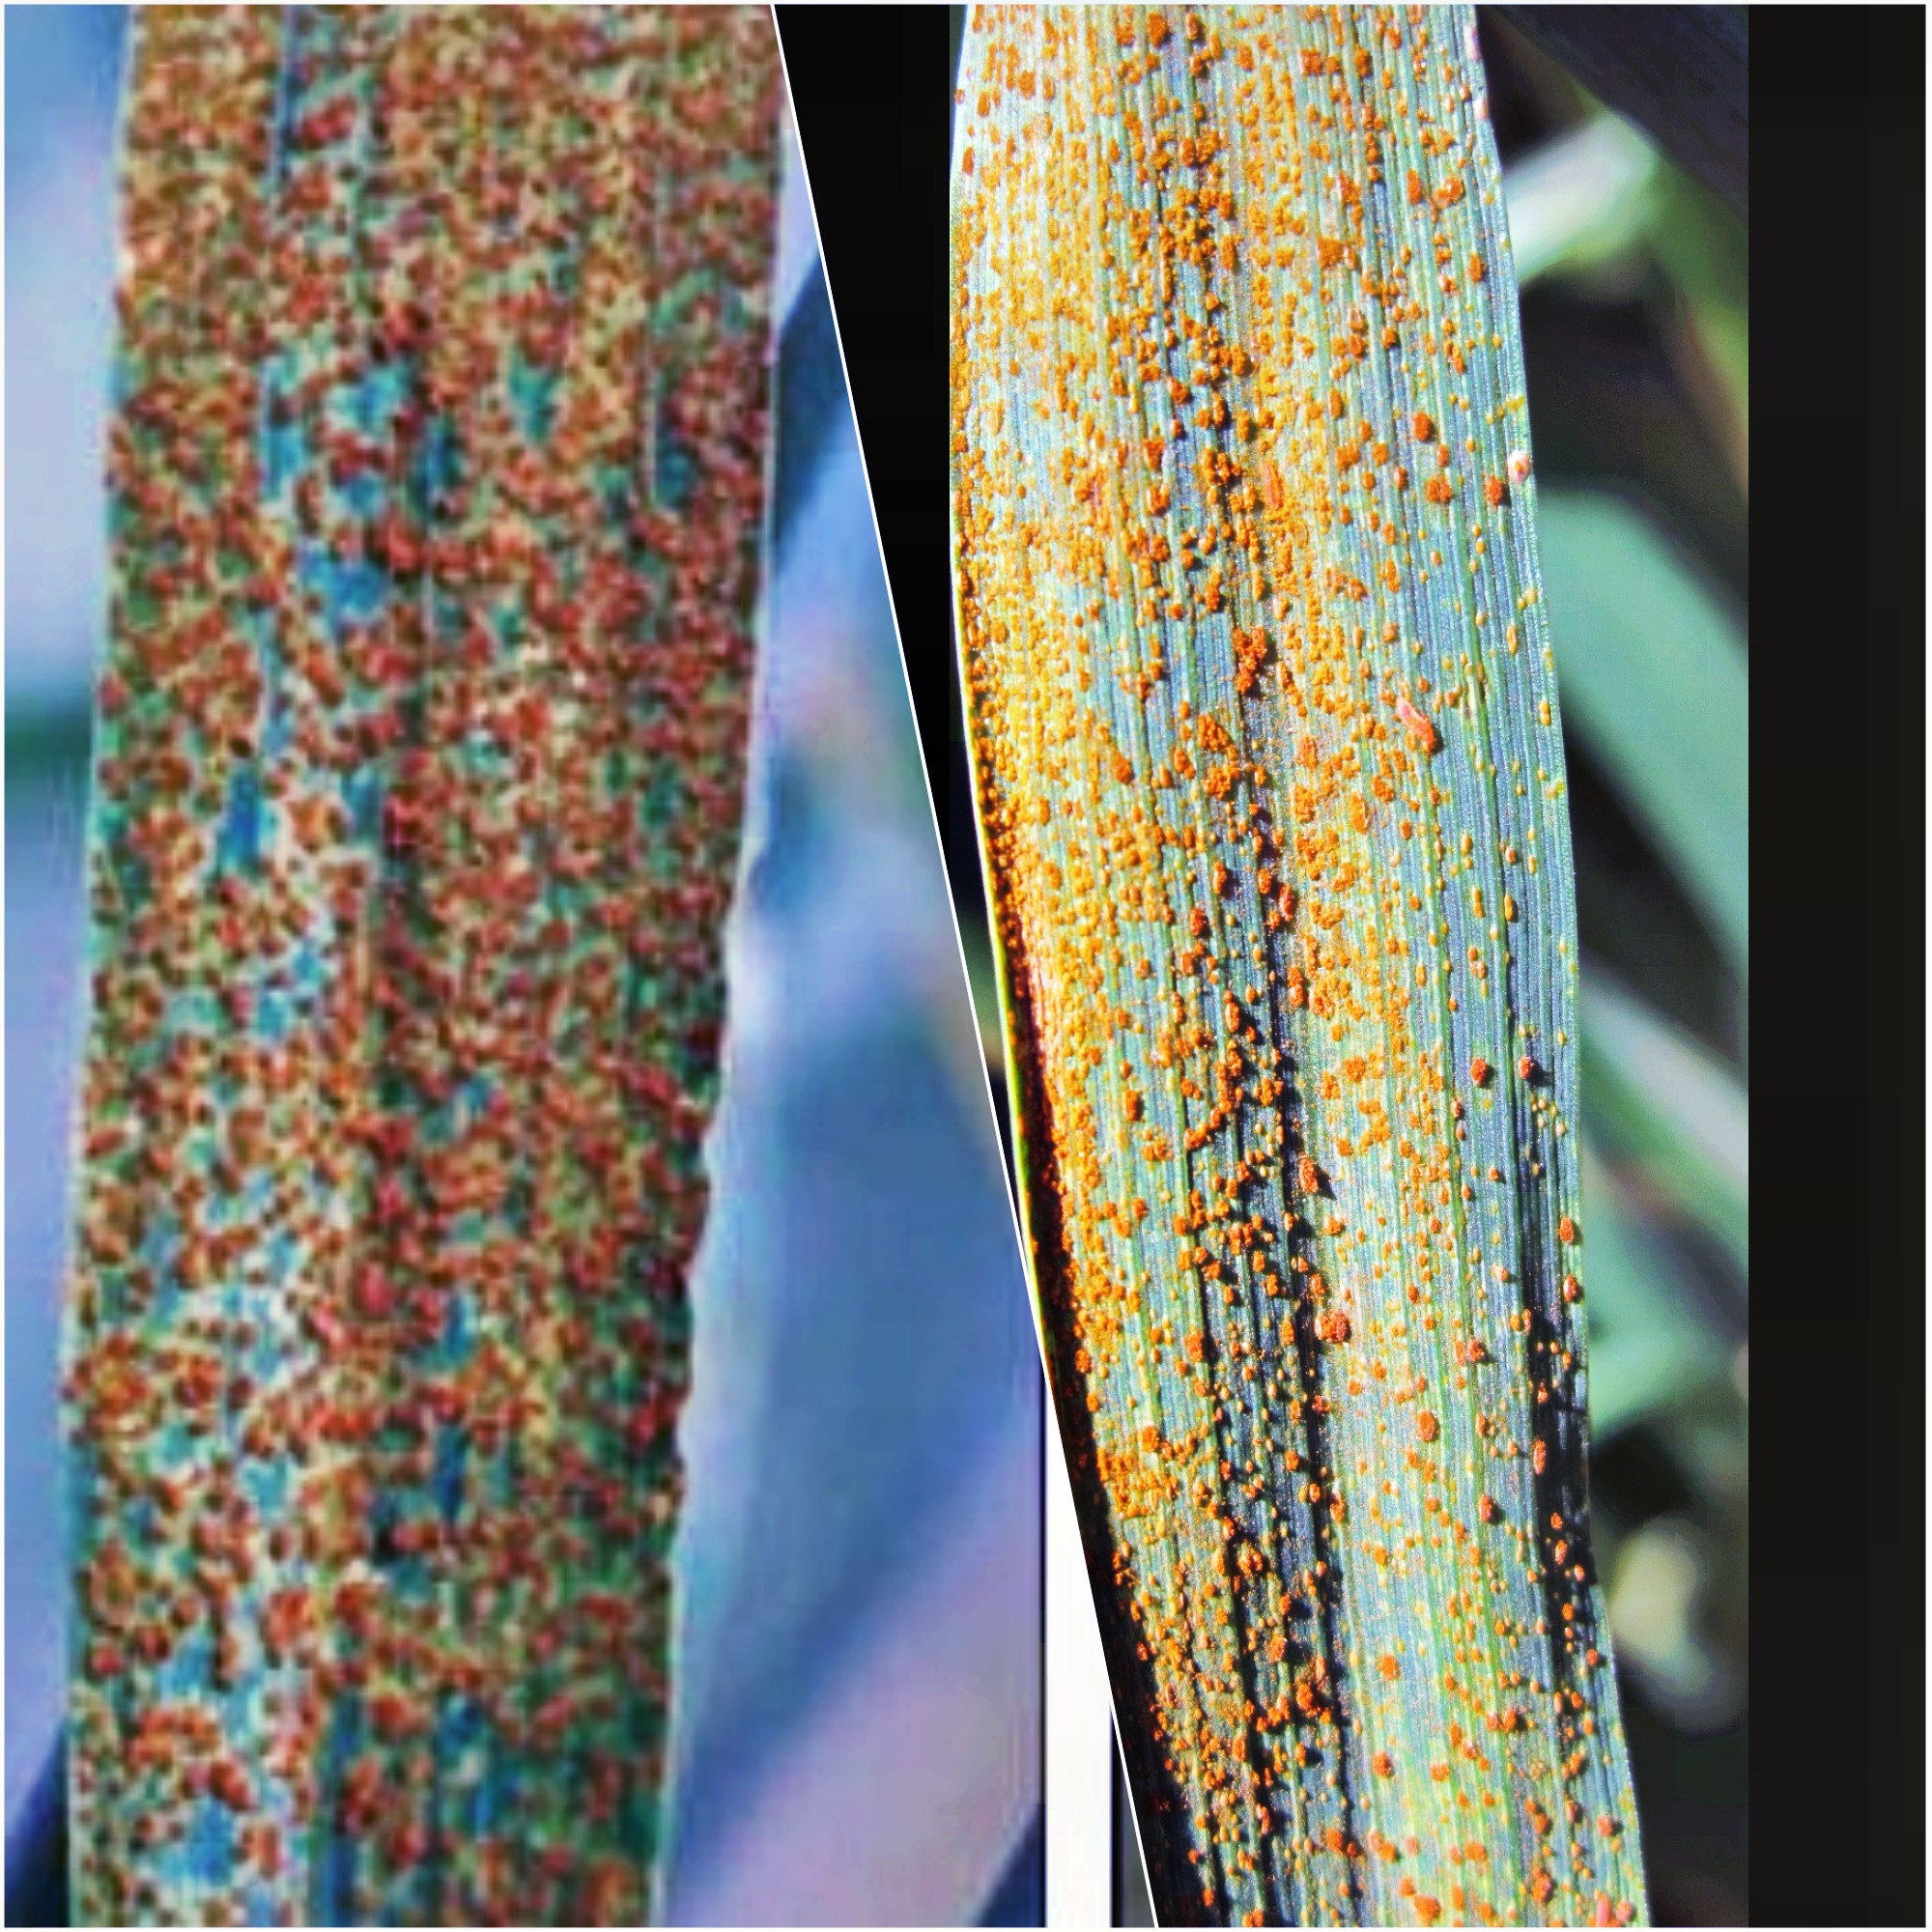Leaf Rust: (941, 67, 1663, 1913), (51, 65, 725, 1932)
